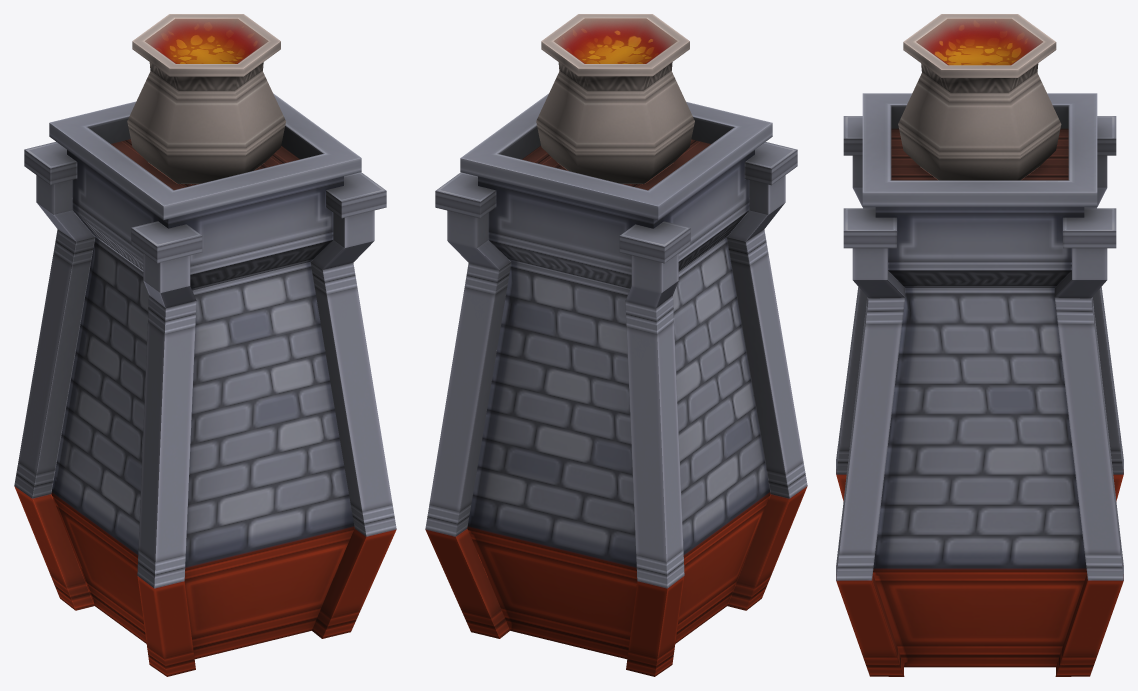
File: Fire_Post.FBX
3 views of the same model, side by side, from view 1: azimuth 30°, elevation 25°; view 2: azimuth 150°, elevation 25°; view 3: azimuth 270°, elevation 25° (orthographic). The views are drawn at different scales.
Parts seen in each view (by area): view 1: Fire_Post; view 2: Fire_Post; view 3: Fire_Post.
Boxes of the visible parts, left/top/right/bottom form: Fire_Post: left=14, top=14, right=396, bottom=676; Fire_Post: left=425, top=14, right=807, bottom=676; Fire_Post: left=836, top=14, right=1123, bottom=676.
Size of the model in its own units: 67.49 by 153 by 67.61.
